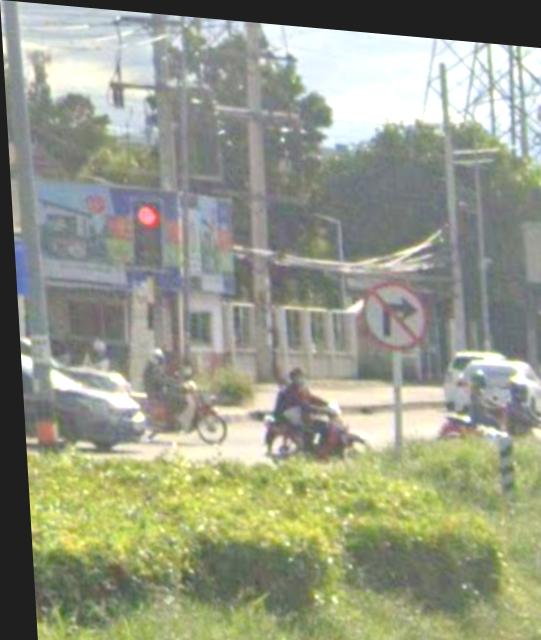not_turn_right: (356, 269, 430, 350)
